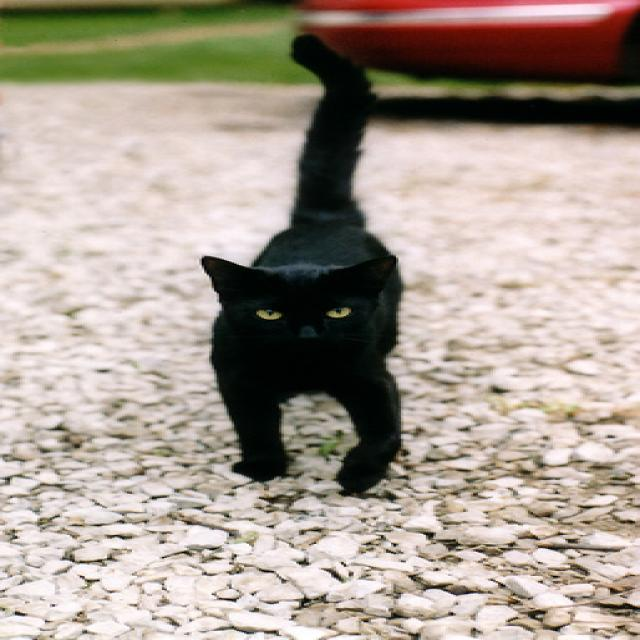left eye: (321, 304, 354, 318)
